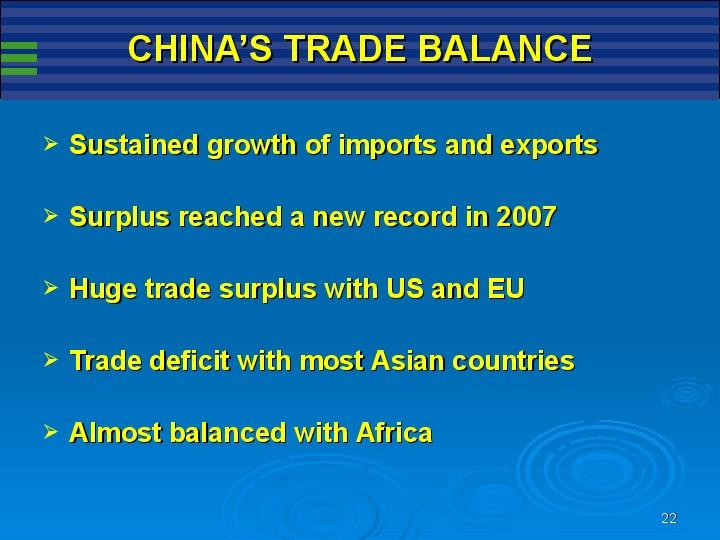paragraph: (29, 116, 618, 462)
title: (122, 21, 618, 81)
